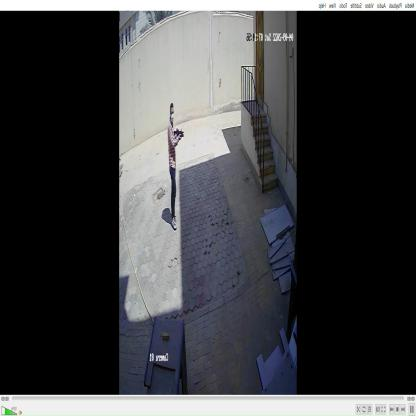handgun: (170, 122, 186, 147)
